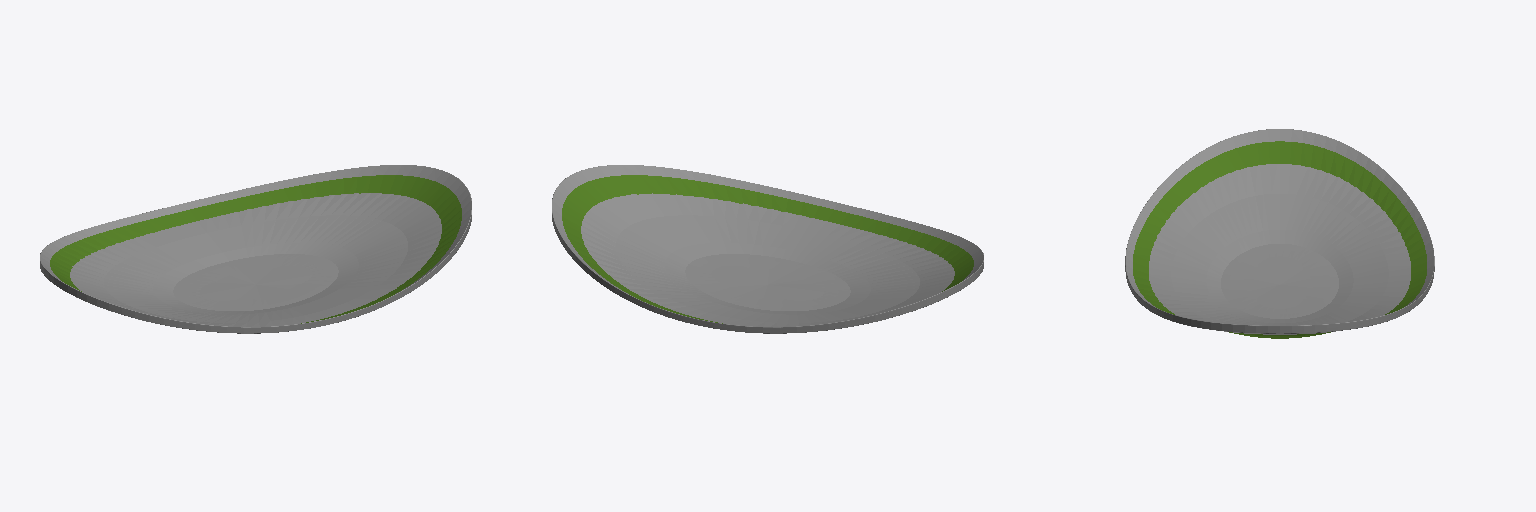
The model's file is FruitBowl_501.obj.
3 views of the same model, side by side, from view 1: azimuth 30°, elevation 25°; view 2: azimuth 150°, elevation 25°; view 3: azimuth 270°, elevation 25° (orthographic).
Visible parts, largest first — view 1: ChamferCyl001; view 2: ChamferCyl001; view 3: ChamferCyl001.
Boxes of the visible parts, x1,y1,x2,y2 form: ChamferCyl001: [40, 165, 471, 333]; ChamferCyl001: [552, 165, 983, 333]; ChamferCyl001: [1125, 129, 1434, 338].
Size of the model in its own units: 93.48 by 12.66 by 61.95.